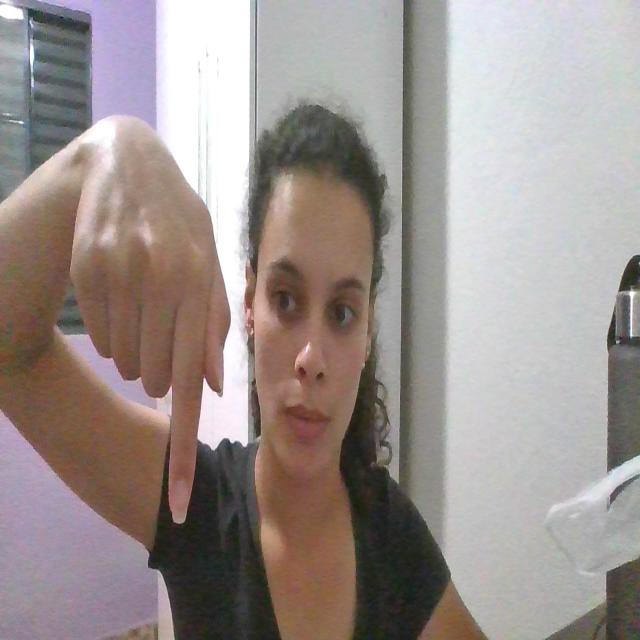Q: (70, 103, 233, 535)
